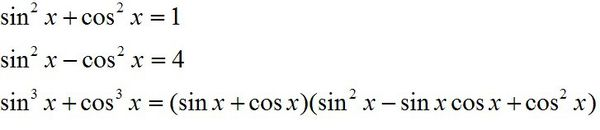cube: (27, 87, 39, 100), (114, 86, 123, 103)
square: (558, 84, 570, 101), (115, 44, 126, 59), (29, 44, 39, 59), (349, 87, 358, 100)
